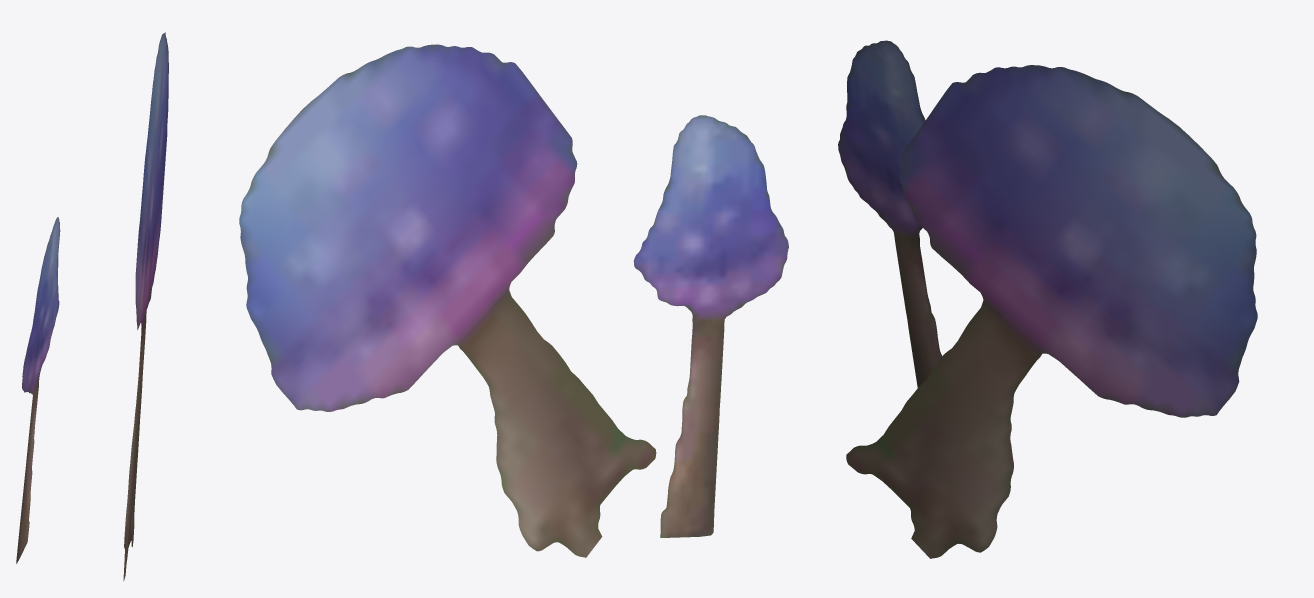
Rendered from zhiwu_021.FBX.
3 renders of one model, left to right at view 1: azimuth 30°, elevation 25°; view 2: azimuth 150°, elevation 25°; view 3: azimuth 270°, elevation 25°, orthographic. The views are drawn at different scales.
Visible parts, largest first — view 1: zhiwu_021; view 2: zhiwu_021; view 3: zhiwu_021.
Boxes of the visible parts, box(x1,y1,x2,y2) form: zhiwu_021: box(16, 32, 168, 581); zhiwu_021: box(239, 44, 788, 557); zhiwu_021: box(838, 40, 1257, 558).
Bounding box in the file's own units: 0.1547 × 0.2209 × 0.1645.
